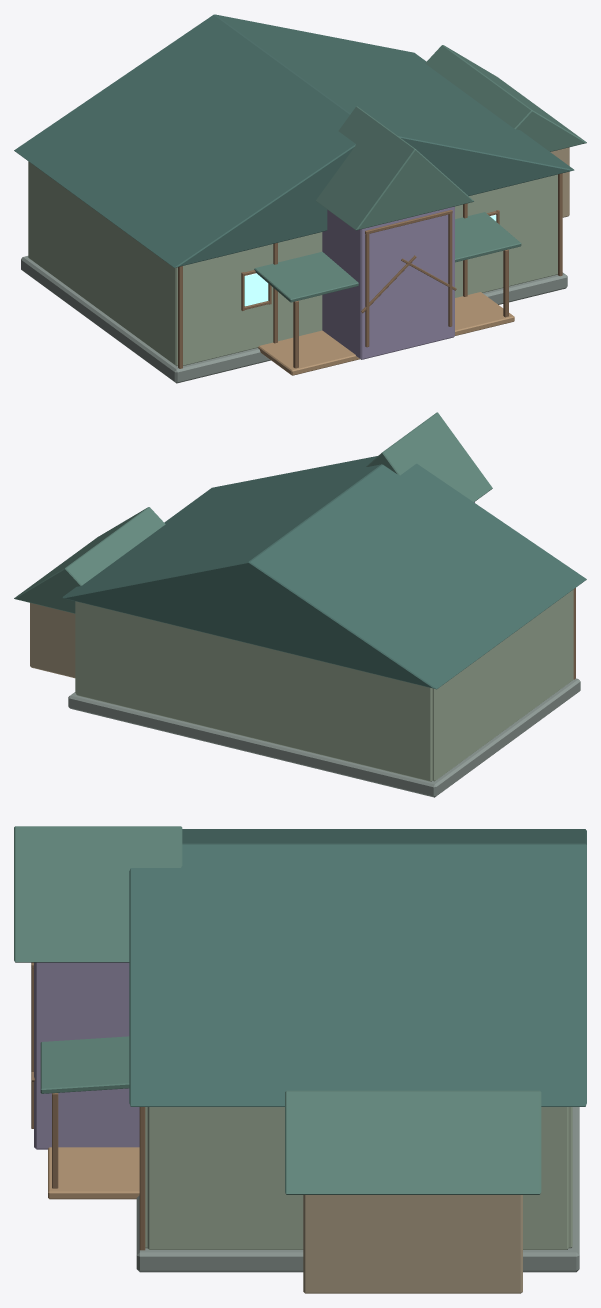
The model's file is LumenCivicHall.glb.
3 views of the same model, one above another, from view 1: azimuth 30°, elevation 25°; view 2: azimuth 150°, elevation 25°; view 3: azimuth 270°, elevation 25° (orthographic). The views are drawn at different scales.
Parts seen in each view (by area): view 1: LumenCivicHall; view 2: LumenCivicHall; view 3: LumenCivicHall.
Boxes of the visible parts, x1,y1,x2,y2 form: LumenCivicHall: [14, 14, 586, 383]; LumenCivicHall: [14, 412, 586, 797]; LumenCivicHall: [14, 826, 586, 1293].
Bounding box in the file's own units: 41.86 × 18.74 × 31.3.
